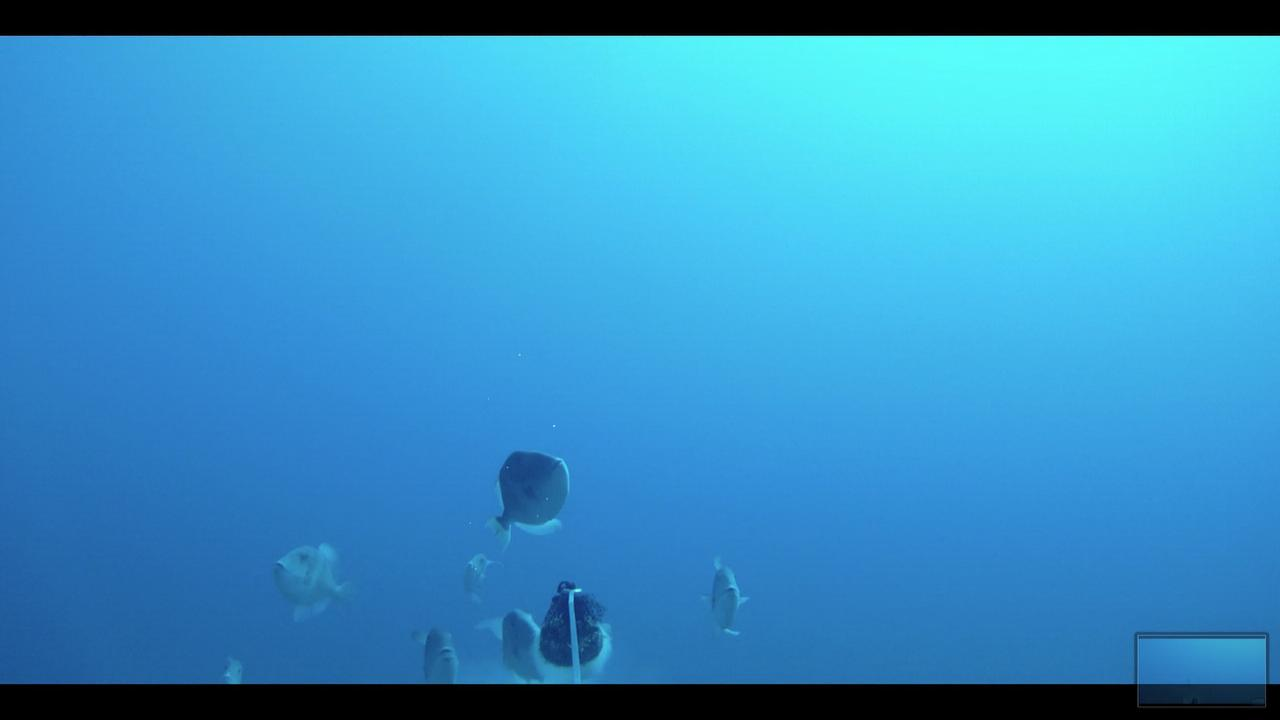balistes: (481, 446, 581, 543), (262, 534, 353, 621), (684, 551, 760, 645), (477, 593, 547, 681), (396, 617, 469, 683), (450, 546, 506, 606)
